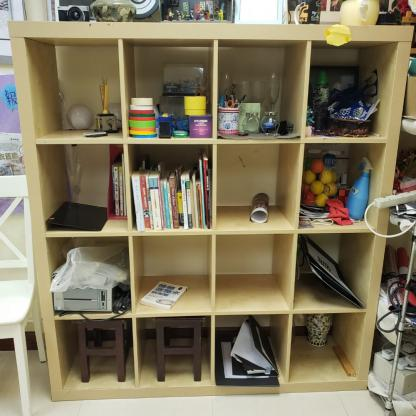lamp: (7, 16, 414, 404)
